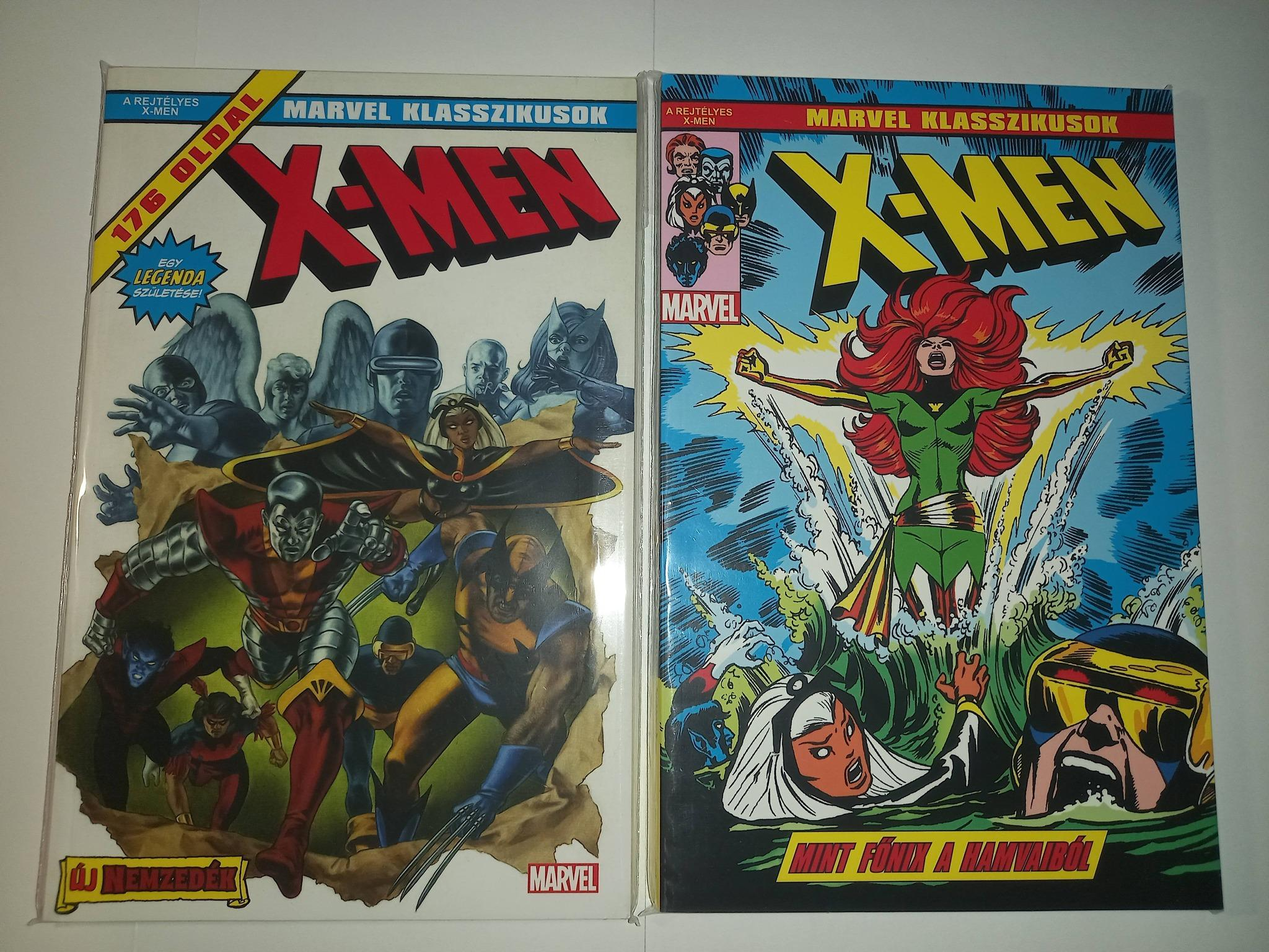comic: (40, 66, 648, 931), (657, 74, 1221, 911)
